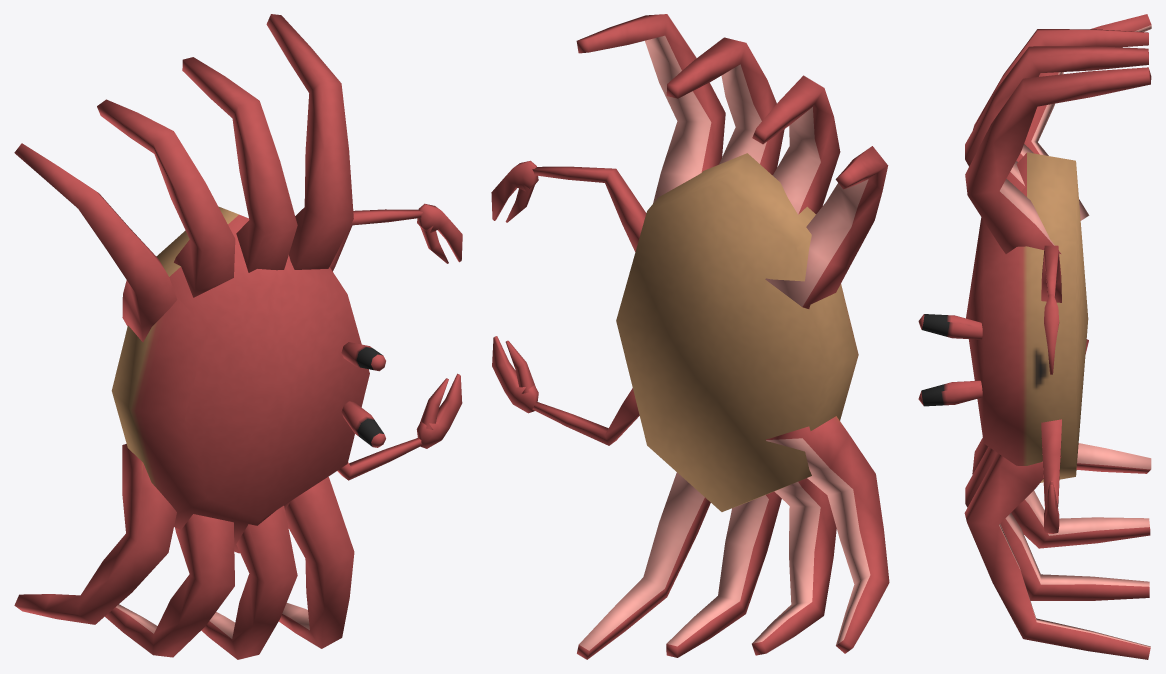
Rendered from SM_Crab.obj.
3 renders of one model, left to right at view 1: azimuth 30°, elevation 25°; view 2: azimuth 150°, elevation 25°; view 3: azimuth 270°, elevation 25°, orthographic. The views are drawn at different scales.
Visible parts, largest first — view 1: SM_Crab; view 2: SM_Crab; view 3: SM_Crab.
Boxes of the visible parts, x1,y1,x2,y2 form: SM_Crab: (14, 14, 462, 659); SM_Crab: (491, 14, 889, 659); SM_Crab: (918, 14, 1151, 659).
Bounding box in the file's own units: 12 × 17.34 × 6.2.
Materials: 1 (1 with a texture image).
